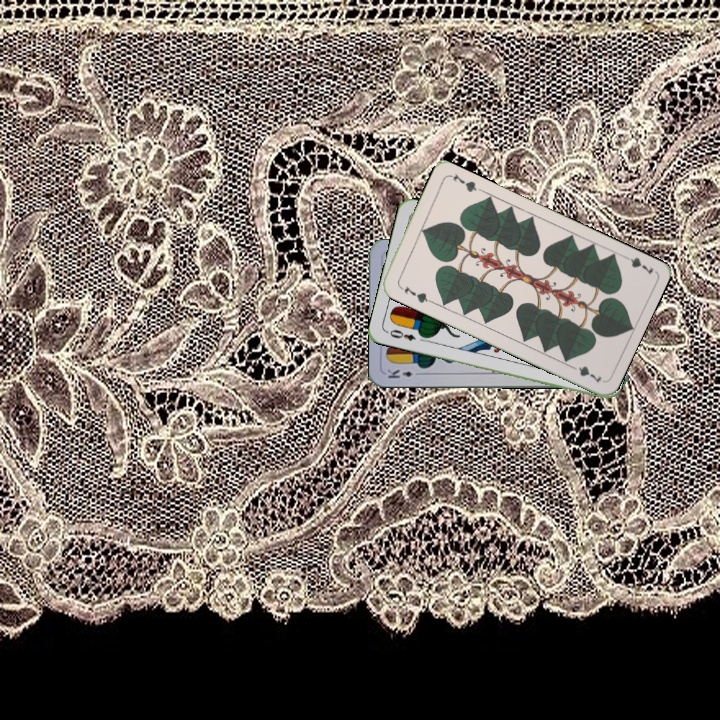EK: (383, 366, 424, 381)
EO: (382, 325, 418, 344)
G7: (618, 250, 656, 277), (395, 281, 433, 306)
